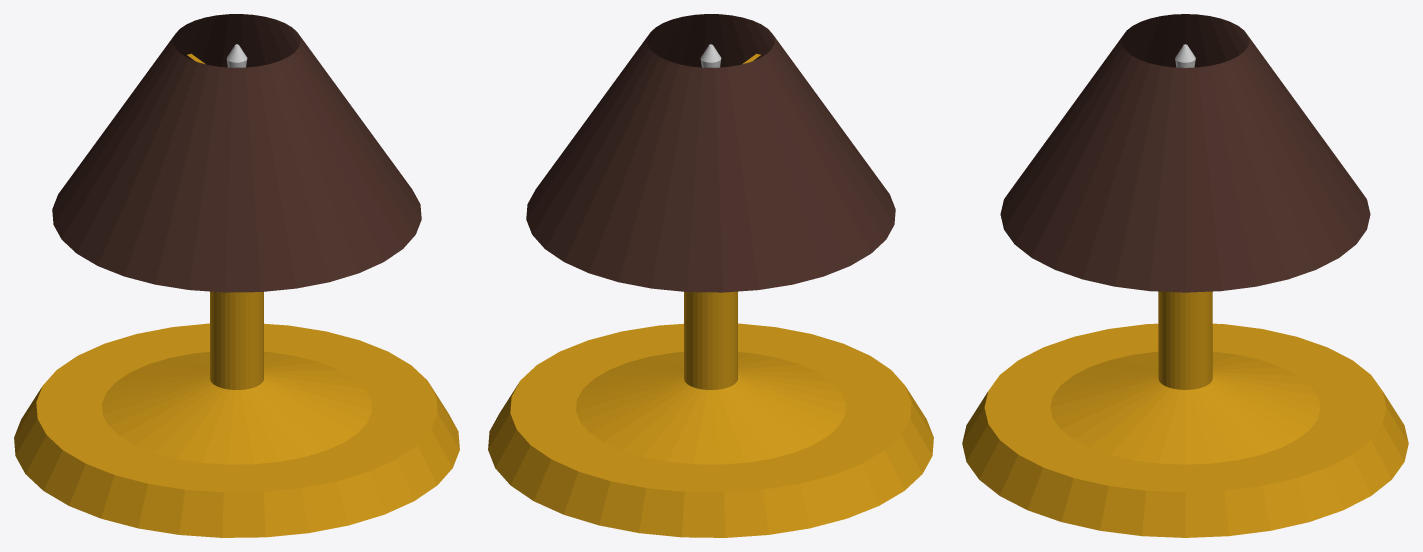
The model's file is LamparaMesa.fbx.
3 renders of one model, left to right at view 1: azimuth 30°, elevation 25°; view 2: azimuth 150°, elevation 25°; view 3: azimuth 270°, elevation 25°, orthographic.
Parts seen in each view (by area): view 1: Cilindro; view 2: Cilindro; view 3: Cilindro.
Boxes of the visible parts, x1,y1,x2,y2 form: Cilindro: [14, 14, 459, 537]; Cilindro: [488, 14, 933, 537]; Cilindro: [962, 14, 1408, 537].
Bounding box in the file's own units: 364 × 362 × 364.
